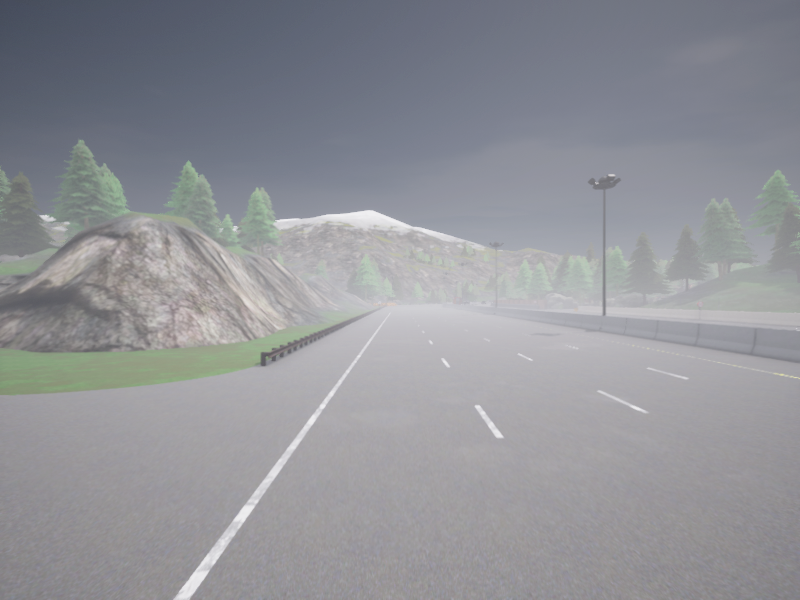vehicle: (452, 296, 460, 303), (464, 301, 470, 304), (472, 301, 477, 304), (482, 301, 486, 304)
